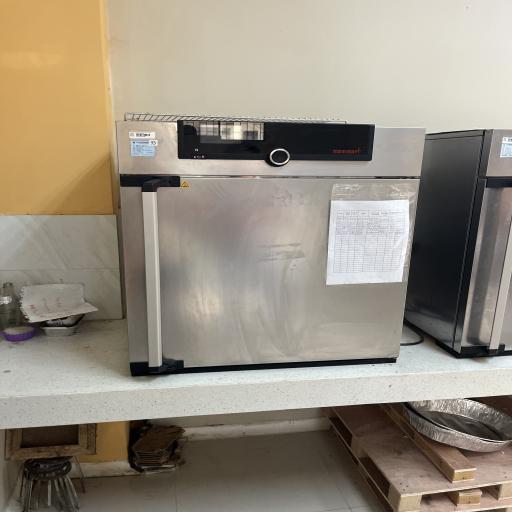Memmert_Unidad2: (102, 100, 434, 382)
